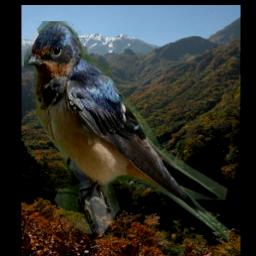Swallow: (24, 22, 229, 243)
